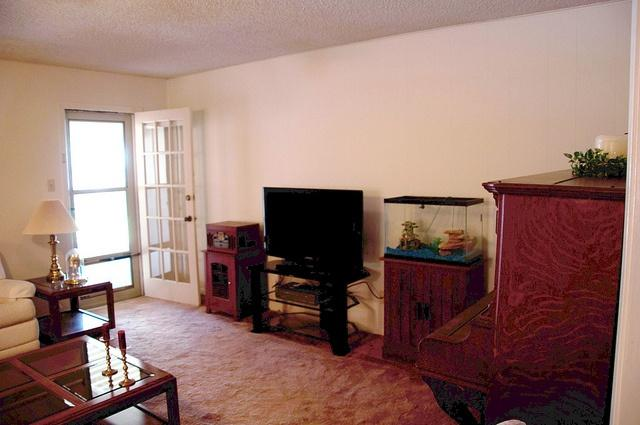AIO PC-Monitor-TV: (261, 185, 363, 273)
Meja: (0, 333, 179, 424)
